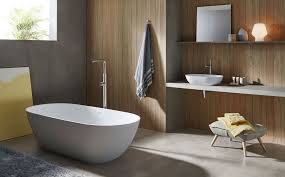bathub: (21, 100, 147, 172)
